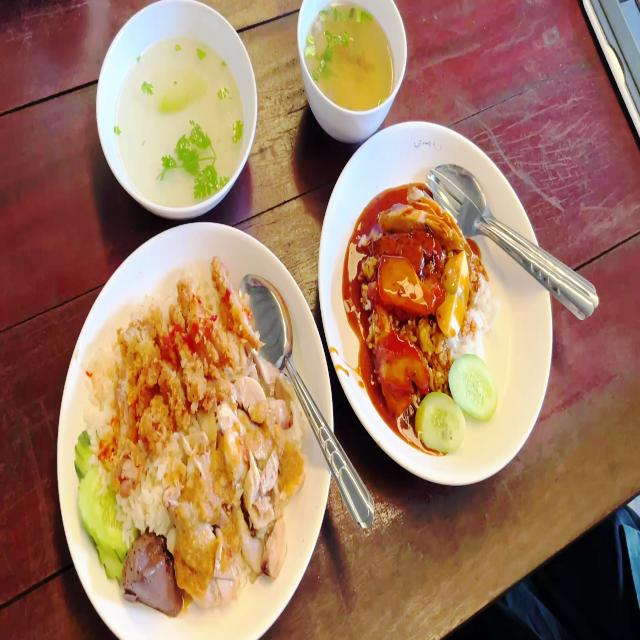boiled_chicken: (173, 366, 304, 604)
boiled_chicken_blood_jelly: (124, 531, 180, 617)
boiled_egg: (439, 248, 470, 330)
chainese_sausage: (376, 220, 442, 270)
chicken_rice: (75, 248, 310, 618)
crispy_pork: (370, 182, 468, 244)
cucumber: (74, 431, 128, 583), (448, 351, 502, 419), (417, 385, 467, 454)
fried_chicken: (104, 264, 224, 435)
red_pork: (371, 326, 425, 416), (377, 254, 441, 314)
red_pork_and_crispy_pork: (352, 184, 501, 449)
